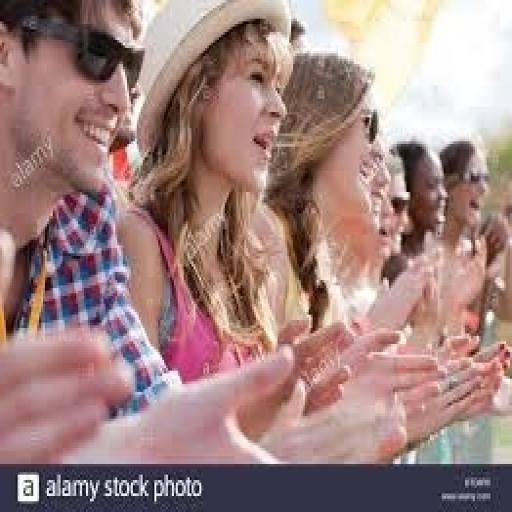clapping: (0, 0, 508, 464)
